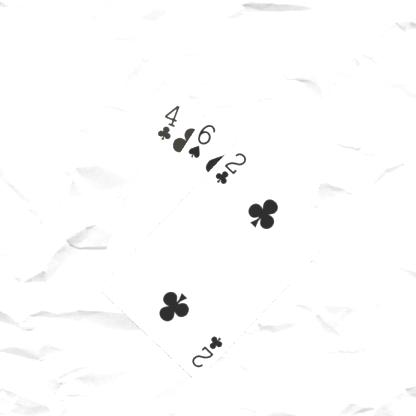2C: (212, 149, 248, 186), (188, 332, 224, 369)
4C: (154, 102, 181, 141)
6S: (185, 121, 217, 160)
